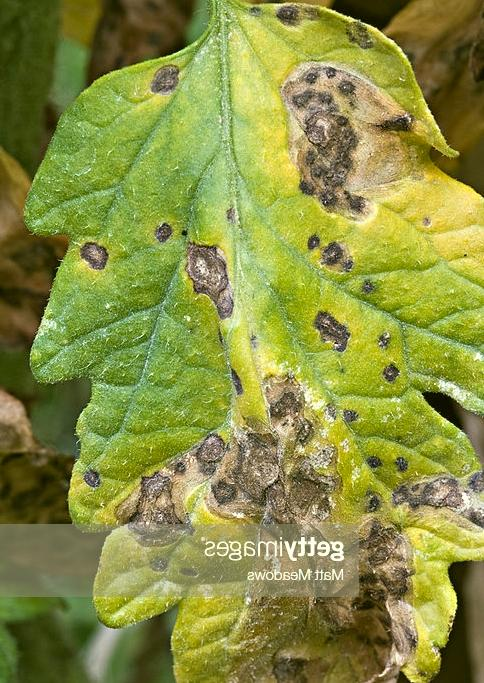Tomato Septoria leaf spot: (25, 0, 484, 683)
